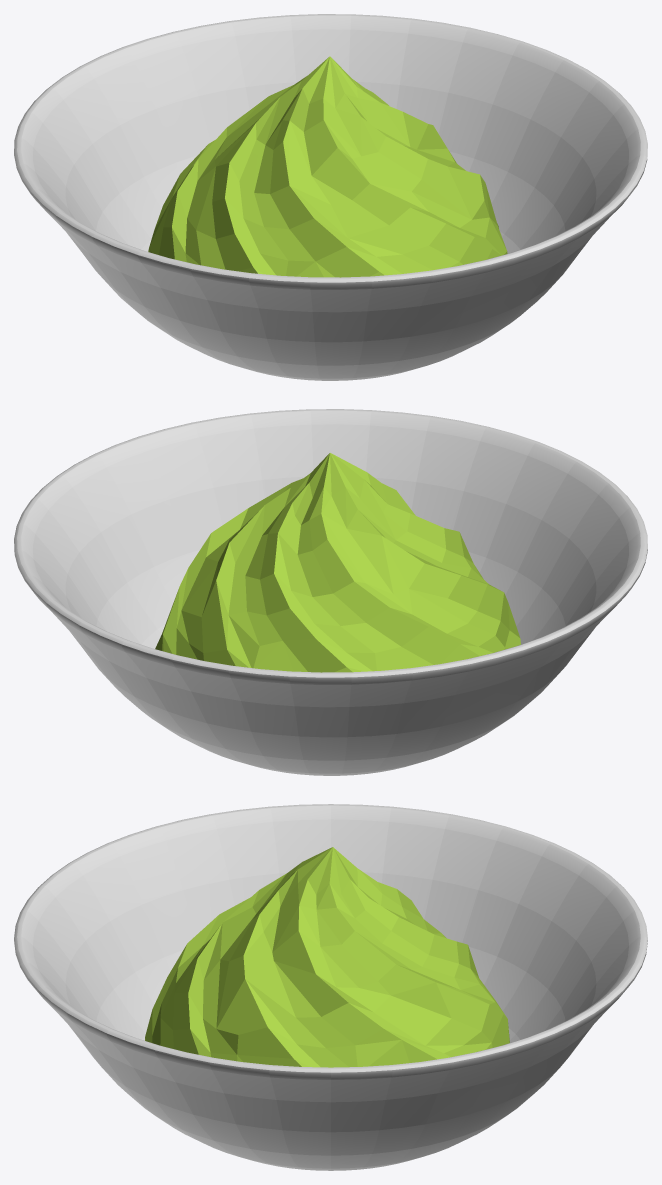
The model's file is wasabi.fbx.
3 views of the same model, one above another, from view 1: azimuth 30°, elevation 25°; view 2: azimuth 150°, elevation 25°; view 3: azimuth 270°, elevation 25° (orthographic).
Visible parts, largest first — view 1: Bowl.002, Cylinder.003; view 2: Bowl.002, Cylinder.003; view 3: Bowl.002, Cylinder.003.
Boxes of the visible parts, bbox=[...] form: Bowl.002: bbox=[14, 14, 647, 380]; Cylinder.003: bbox=[148, 56, 507, 277]; Bowl.002: bbox=[14, 409, 647, 775]; Cylinder.003: bbox=[155, 453, 520, 672]; Bowl.002: bbox=[14, 804, 647, 1170]; Cylinder.003: bbox=[145, 847, 509, 1067].
Bounding box in the file's own units: 171 × 83.58 × 171.
